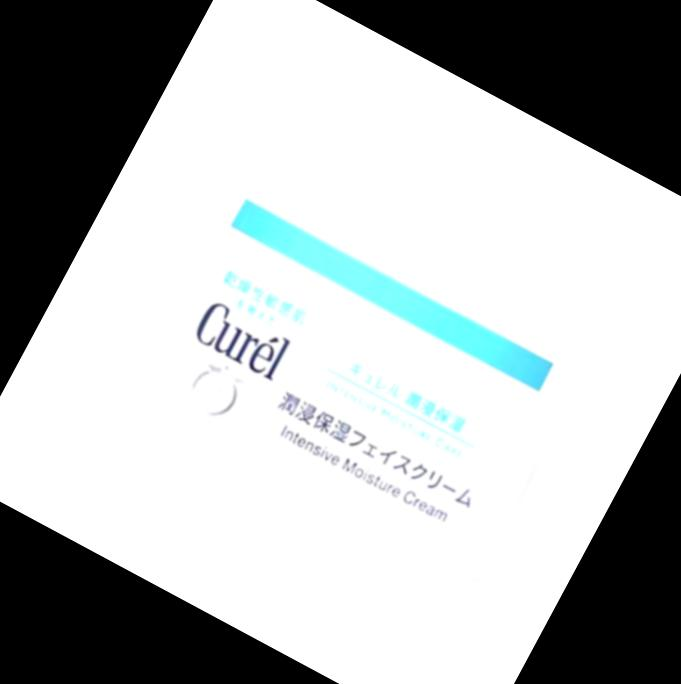cosmetic: (96, 105, 626, 586)
